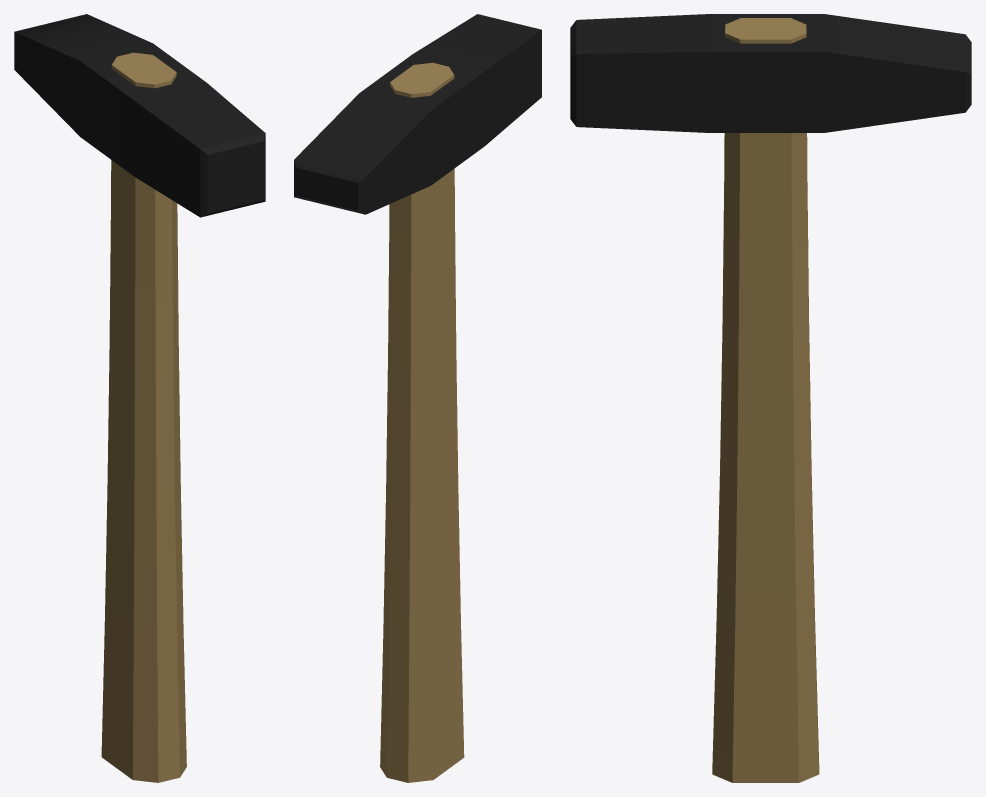
Rendered from SimpleHammer v01.fbx.
3 renders of one model, left to right at view 1: azimuth 30°, elevation 25°; view 2: azimuth 150°, elevation 25°; view 3: azimuth 270°, elevation 25°, orthographic. The views are drawn at different scales.
Visible parts, largest first — view 1: simple_hammer; view 2: simple_hammer; view 3: simple_hammer.
Boxes of the visible parts, x1,y1,x2,y2 form: simple_hammer: (14, 14, 265, 782); simple_hammer: (294, 14, 541, 782); simple_hammer: (570, 14, 971, 782).
Bounding box in the file's own units: 15.78 × 144 × 70.66.
